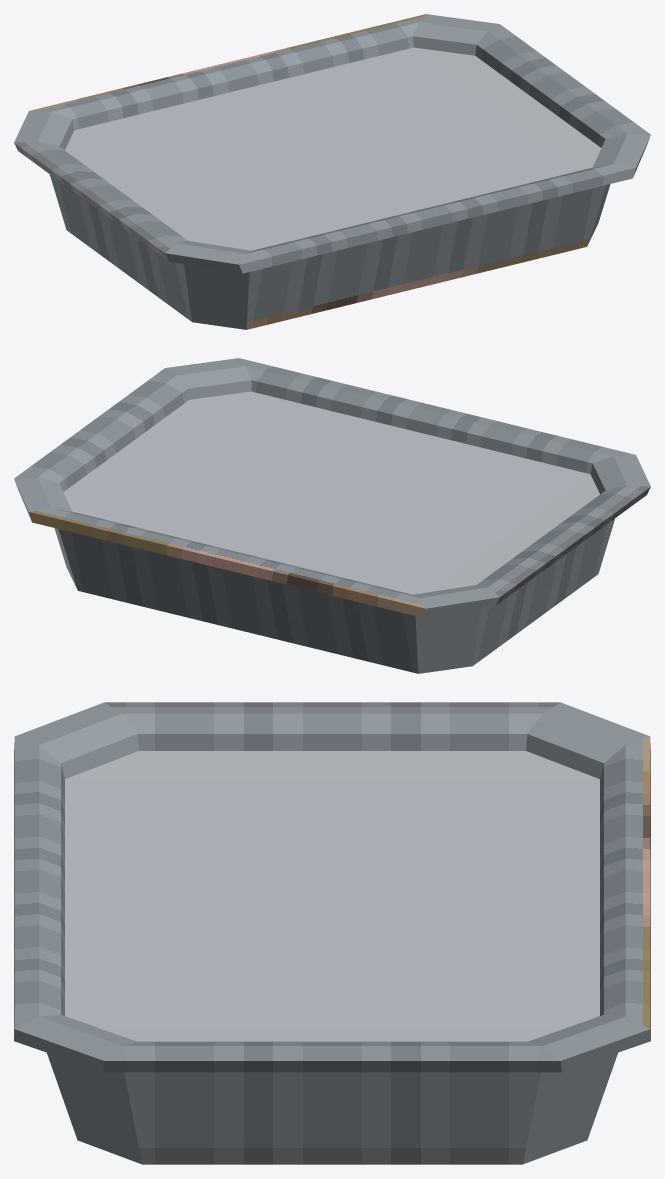
Rendered from SM_Prop_Food_Takeaway_Container_01.glb.
The picture shows the model from 3 angles, top to bottom: view 1: azimuth 30°, elevation 25°; view 2: azimuth 150°, elevation 25°; view 3: azimuth 270°, elevation 25°; orthographic projection. The views are drawn at different scales.
Visible parts, largest first — view 1: SM_Prop_Food_Takeaway_Container_01; view 2: SM_Prop_Food_Takeaway_Container_01; view 3: SM_Prop_Food_Takeaway_Container_01.
Part boxes in pixels (x1,y1,x2,y2): SM_Prop_Food_Takeaway_Container_01: (14, 14, 650, 329); SM_Prop_Food_Takeaway_Container_01: (14, 358, 650, 673); SM_Prop_Food_Takeaway_Container_01: (14, 702, 650, 1164).
Size of the model in its own units: 0.438 by 0.0769 by 0.3289.
Materials: 1 (1 with a texture image).
